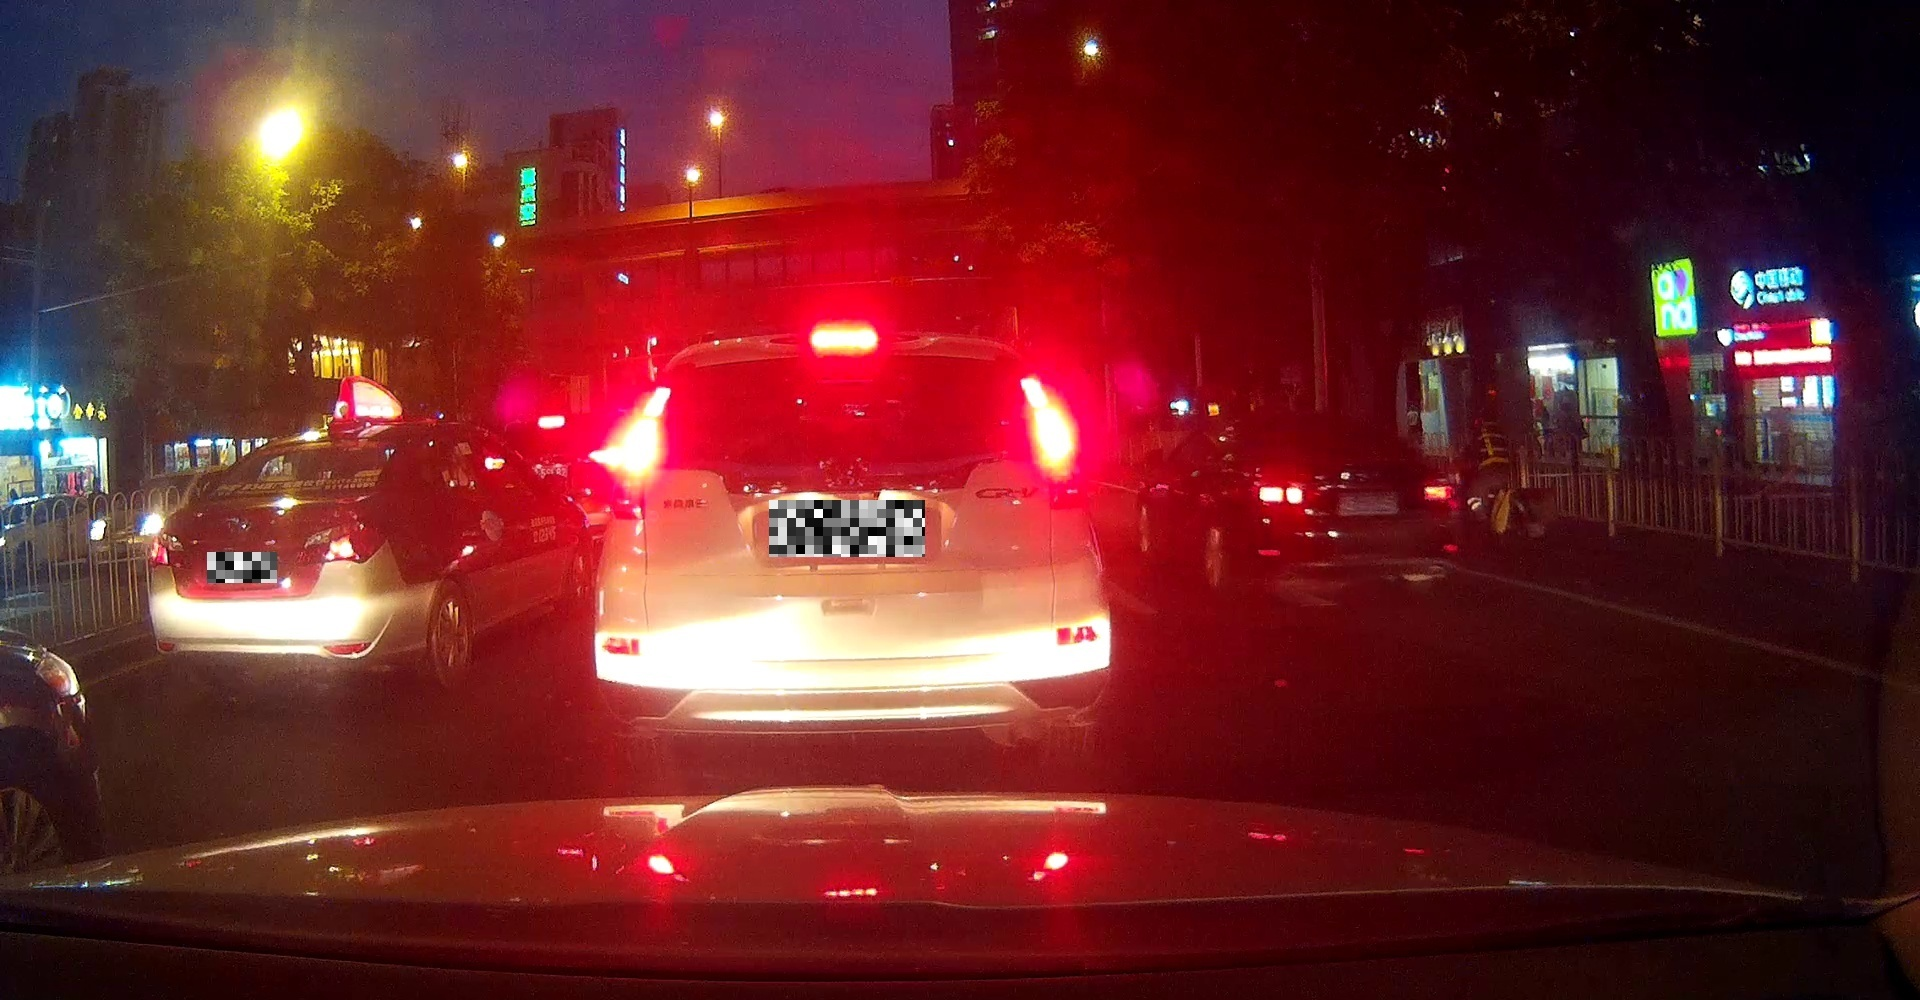L_light: (603, 410, 662, 522), (147, 528, 190, 572), (1257, 478, 1304, 509)
R_light: (1030, 398, 1090, 508), (295, 519, 387, 563), (1420, 477, 1457, 506)
T_light: (810, 324, 880, 355), (284, 442, 319, 451), (1321, 420, 1349, 428)
night-brake: (589, 320, 1112, 760)
night-no: (146, 431, 403, 697), (1244, 411, 1459, 596)
plate_1: (207, 552, 277, 582)
plate_2: (770, 500, 924, 557)
